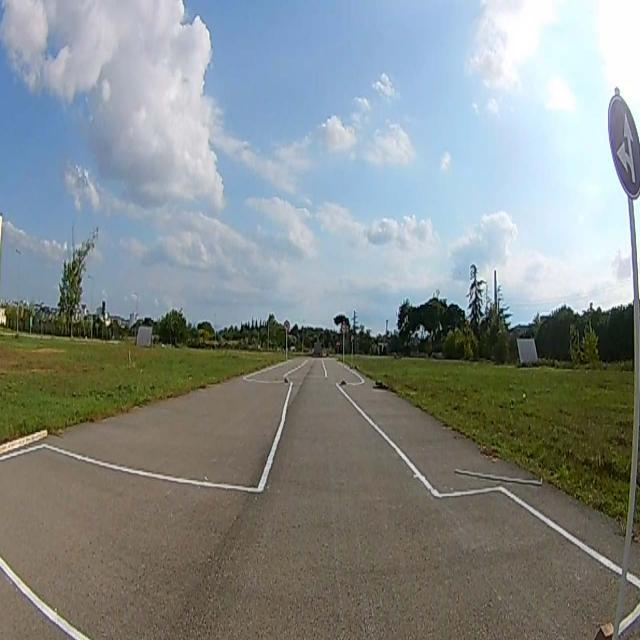ilerisol: (607, 96, 640, 197)
